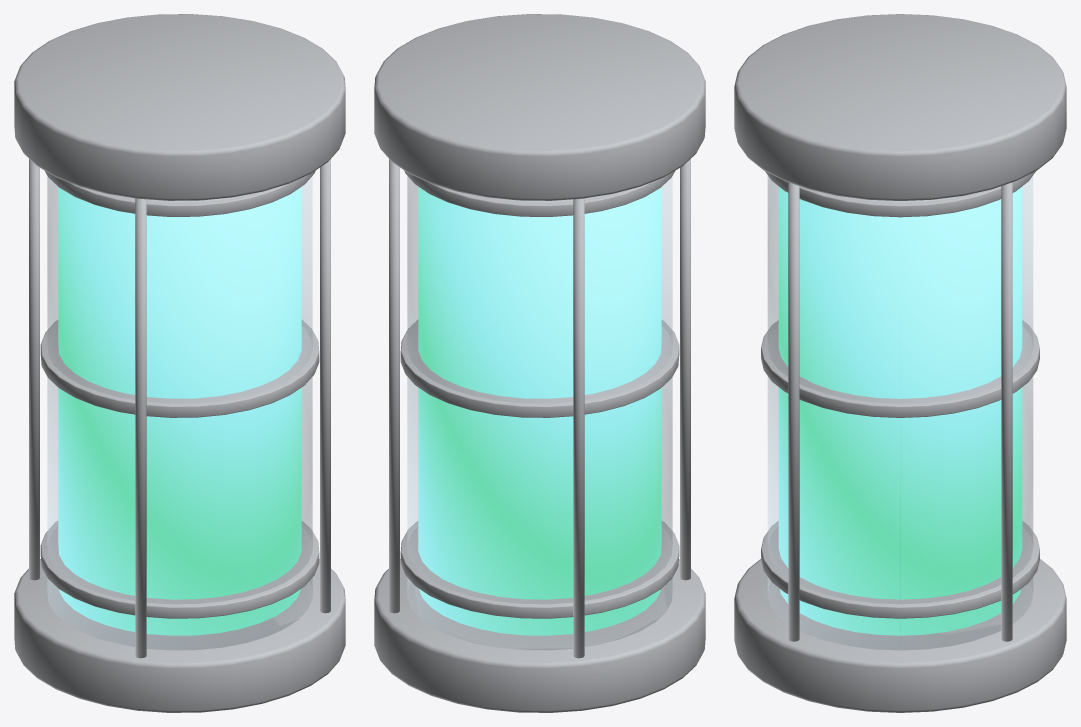
File: containment_tube.glb
The picture shows the model from 3 angles, left to right: view 1: azimuth 30°, elevation 25°; view 2: azimuth 150°, elevation 25°; view 3: azimuth 270°, elevation 25°; orthographic projection.
Visible parts, largest first — view 1: containment_tube; view 2: containment_tube; view 3: containment_tube.
Boxes of the visible parts, x1,y1,x2,y2 form: containment_tube: (14, 14, 345, 712); containment_tube: (374, 14, 705, 712); containment_tube: (734, 14, 1066, 712).
Size of the model in its own units: 1.5 by 2.8 by 1.5.
